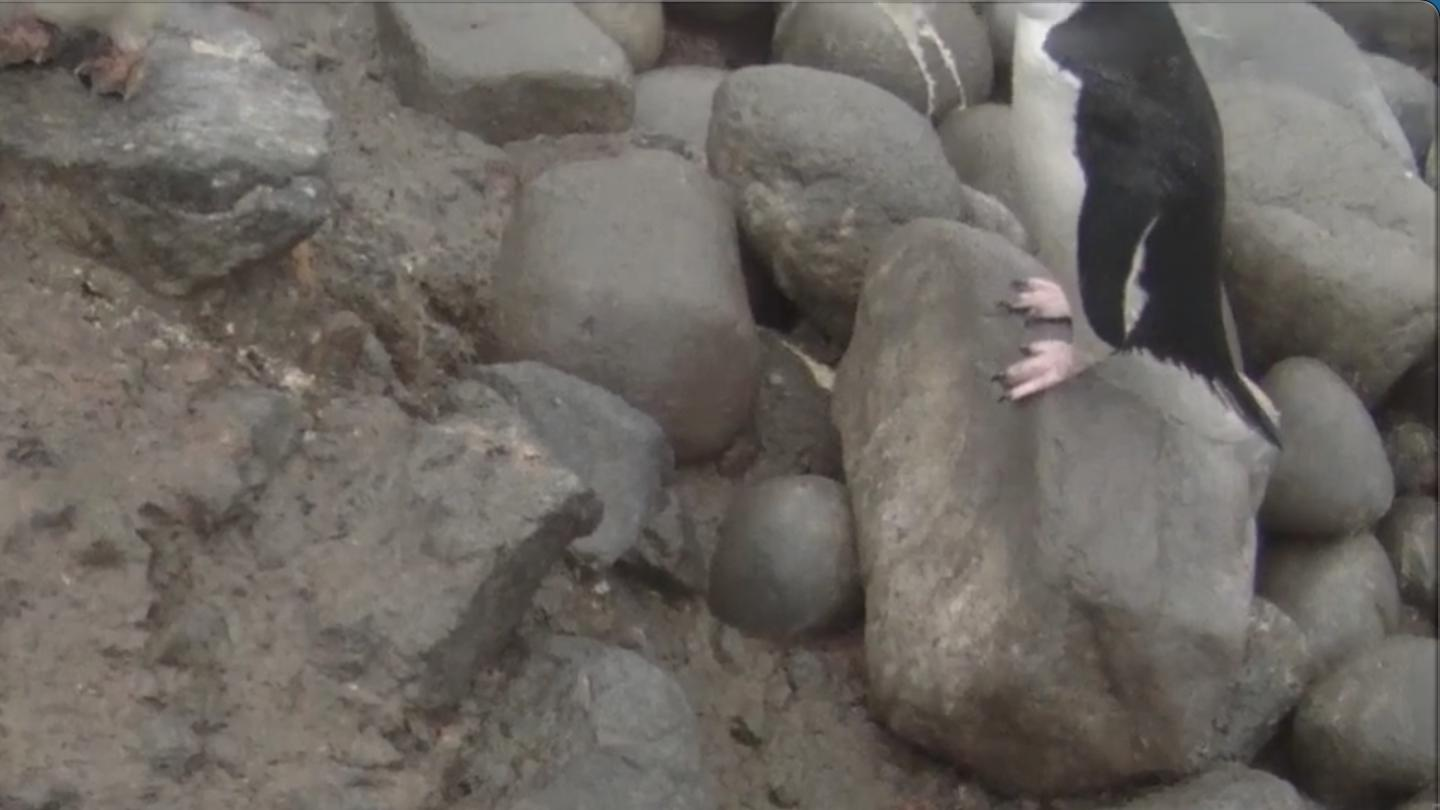Chinstrap Penguin: (0, 335, 210, 810)
